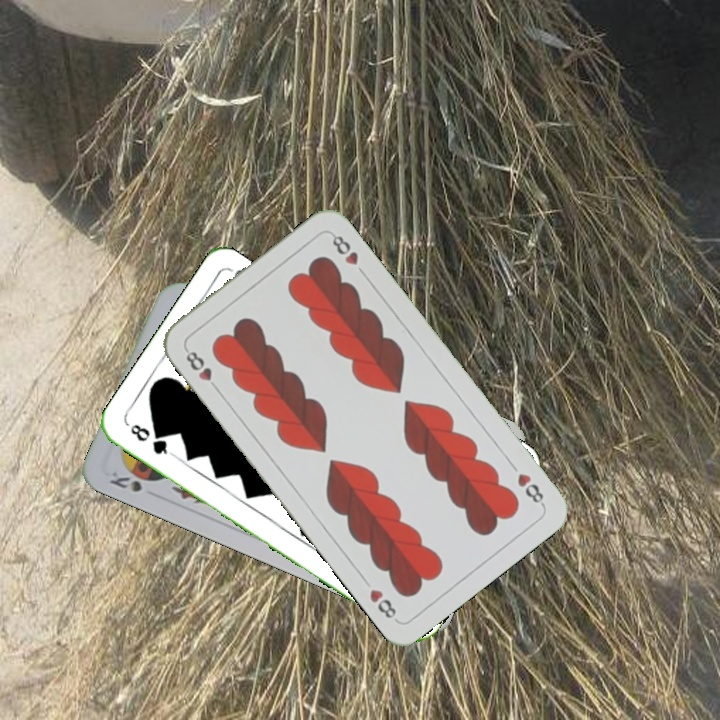G8: (126, 420, 176, 458)
H8: (181, 344, 223, 394), (513, 469, 548, 509)
SK: (105, 467, 145, 495)
